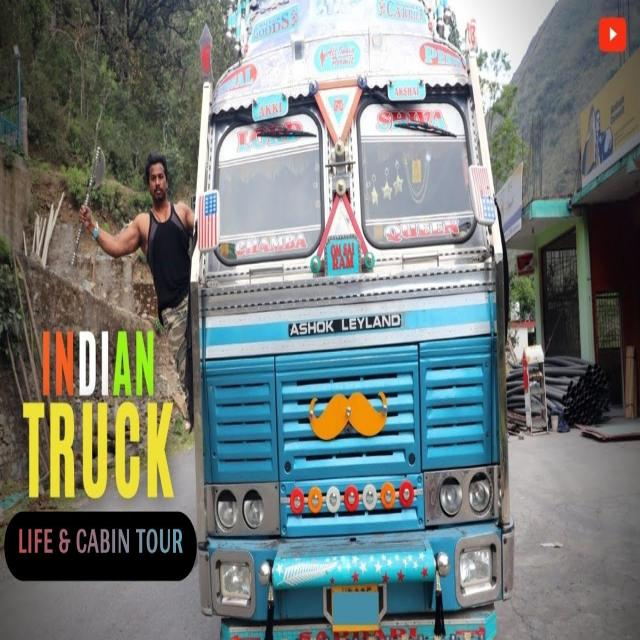Truck: (200, 12, 514, 632)
